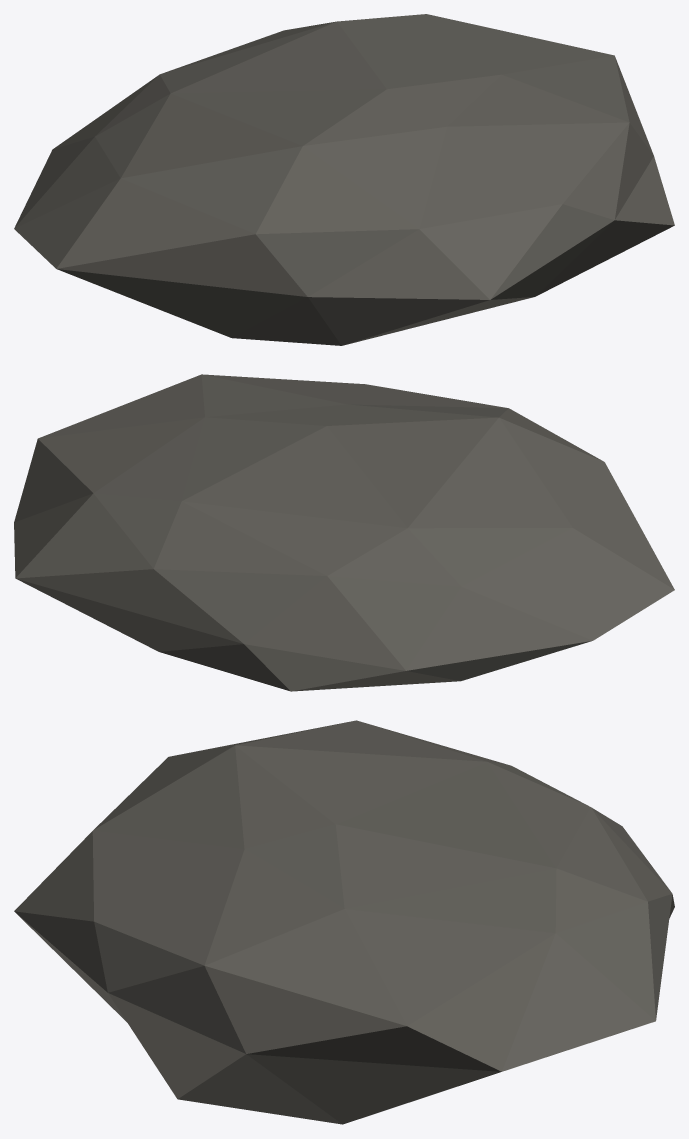
File: SM_Rock_Flat.glb
3 renders of one model, top to bottom at view 1: azimuth 30°, elevation 25°; view 2: azimuth 150°, elevation 25°; view 3: azimuth 270°, elevation 25°, orthographic. The views are drawn at different scales.
Visible parts, largest first — view 1: SM_Rock_Flat; view 2: SM_Rock_Flat; view 3: SM_Rock_Flat.
Part boxes in pixels (x1,y1,x2,y2): SM_Rock_Flat: (14, 14, 674, 345); SM_Rock_Flat: (14, 374, 674, 691); SM_Rock_Flat: (14, 720, 674, 1124).
Size of the model in its own units: 0.9306 by 0.2829 by 0.7882.
Materials: 1 (1 with a texture image).
